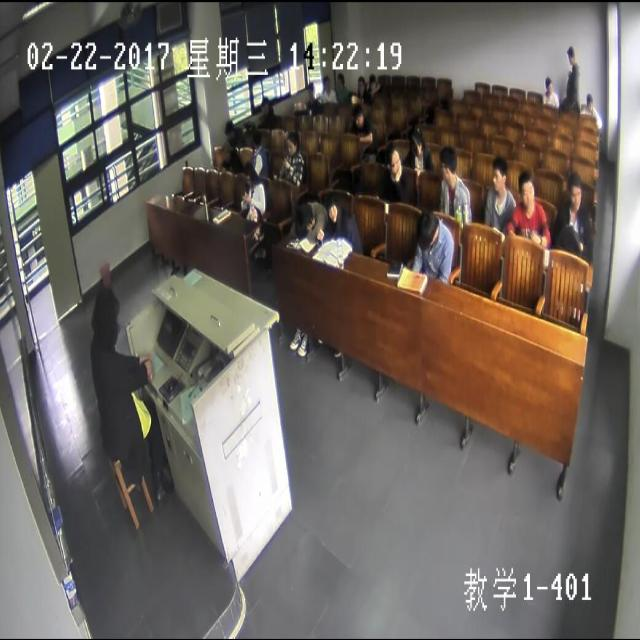person: (88, 279, 120, 344), (418, 207, 440, 253), (436, 143, 457, 191), (488, 152, 509, 195), (517, 170, 537, 213), (293, 198, 314, 236), (384, 138, 402, 180), (566, 172, 584, 212), (408, 122, 424, 158), (325, 191, 341, 224), (240, 160, 255, 187), (285, 130, 299, 157), (222, 116, 235, 141), (258, 92, 271, 114), (566, 40, 577, 66), (352, 104, 364, 126), (249, 126, 261, 147), (222, 138, 234, 159), (305, 78, 315, 101), (543, 73, 554, 92), (320, 73, 330, 91), (356, 73, 365, 92), (584, 88, 592, 109), (368, 67, 375, 89), (336, 69, 344, 88)
